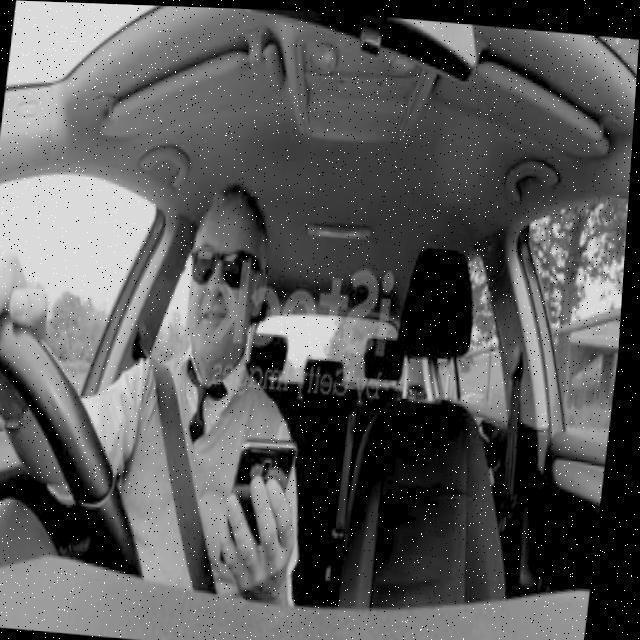PhoneCall: (225, 431, 305, 569)
